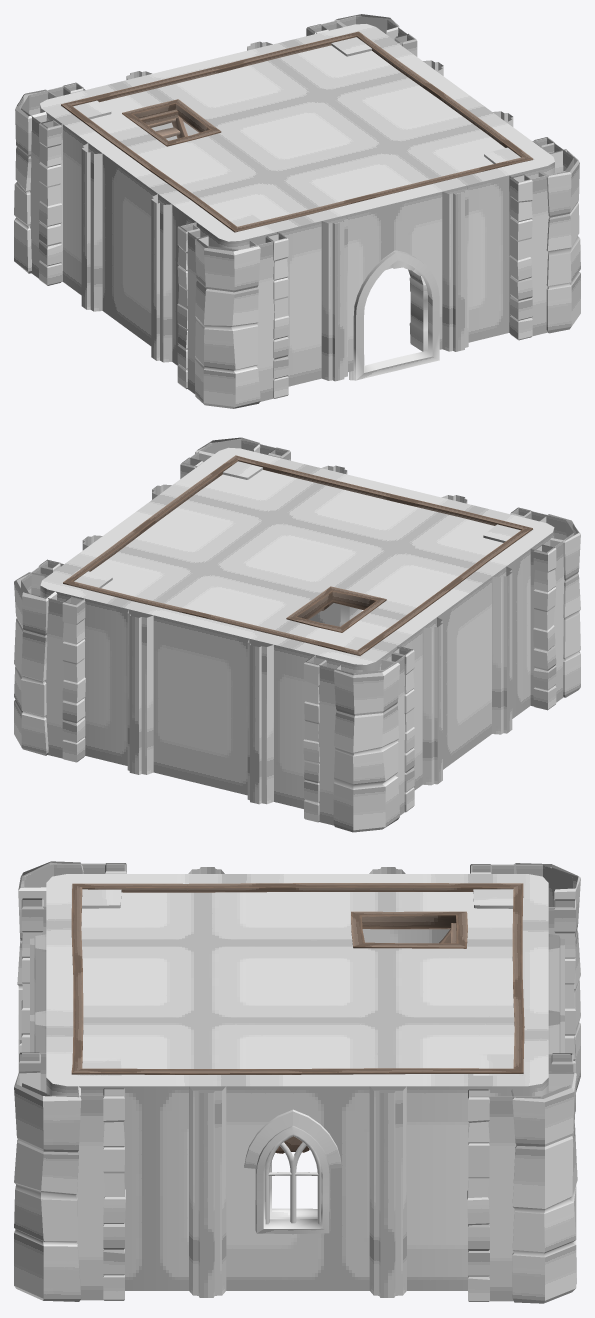
Rendered from SM_TowerF_Mid1Door.fbx.
3 views of the same model, one above another, from view 1: azimuth 30°, elevation 25°; view 2: azimuth 150°, elevation 25°; view 3: azimuth 270°, elevation 25° (orthographic). The views are drawn at different scales.
Parts seen in each view (by area): view 1: SM_TowerF_Mid1Door_LOD0; view 2: SM_TowerF_Mid1Door_LOD0; view 3: SM_TowerF_Mid1Door_LOD0.
Boxes of the visible parts, left/top/right/bottom form: SM_TowerF_Mid1Door_LOD0: left=14, top=14, right=580, bottom=408; SM_TowerF_Mid1Door_LOD0: left=14, top=437, right=580, bottom=832; SM_TowerF_Mid1Door_LOD0: left=14, top=861, right=580, bottom=1303.
Bounding box in the file's own units: 1129 × 1129 × 494.
